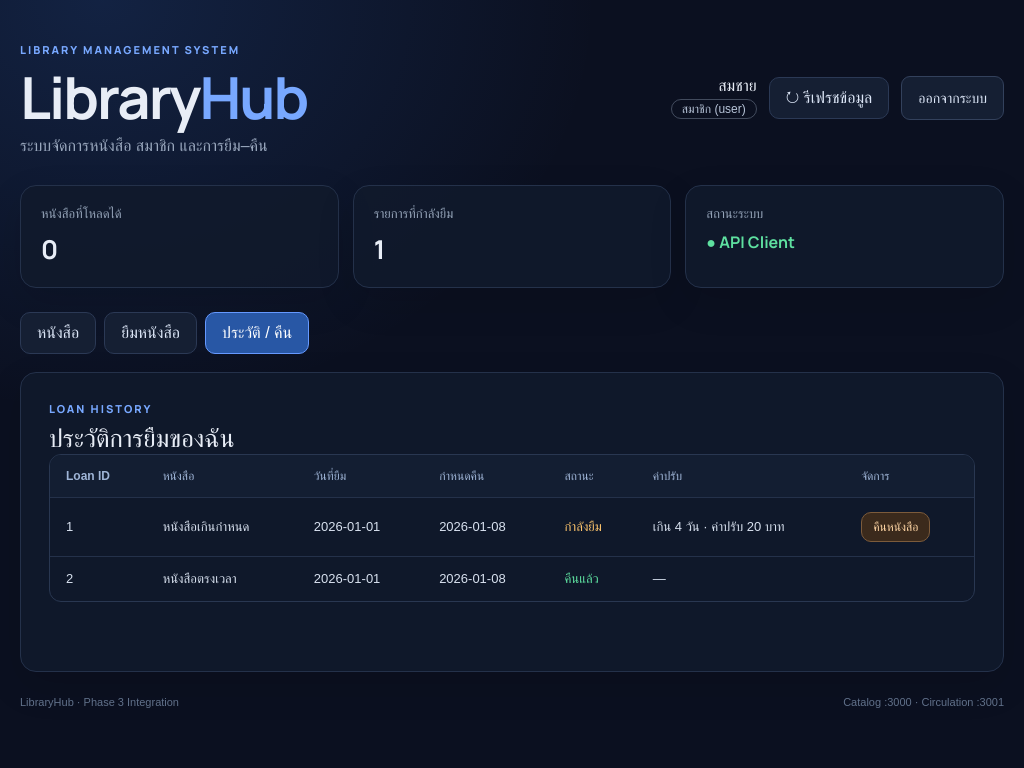
App: กู้เซสชันตอนเปิดหน้า › ออกจากระบบ: เรียก /api/auth/logout, ล้าง token และกลับหน้าเข้าสู่ระบบ
Click the button "ออกจากระบบ": [953, 98] box [901,76,1004,120]
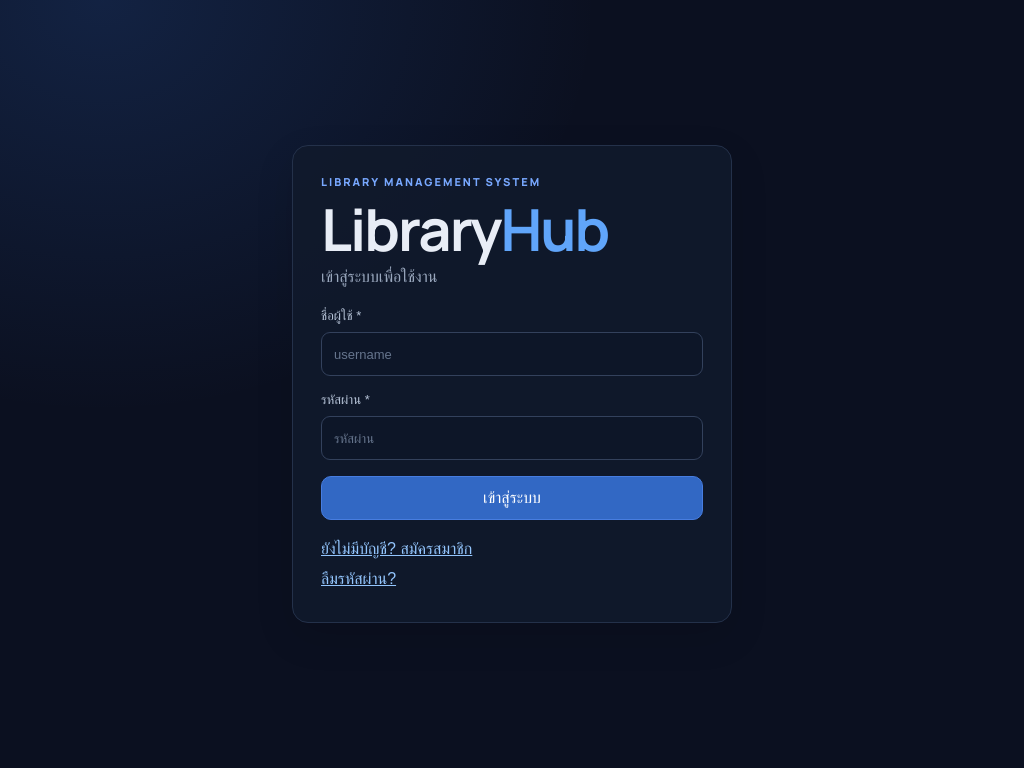
Check: the text "เข้าสู่ระบบเพื่อใช้งาน" is shown, box [321,268,438,285]
